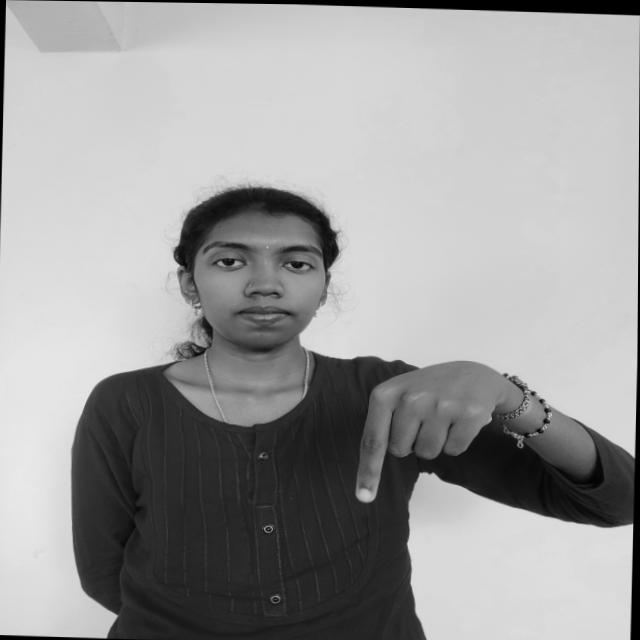Now: (348, 337, 516, 513)
